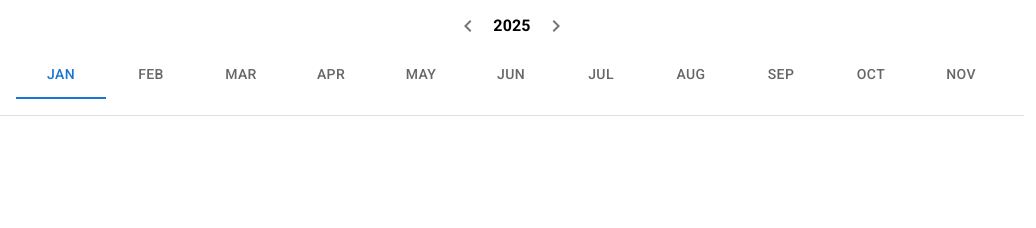
it: DashboardHeader › closing the year menu without selecting a year hides the menu
The width and height of the screenshot is (1036, 228).
Click the text "2025". click: [512, 26]
box: [493, 16, 531, 35]
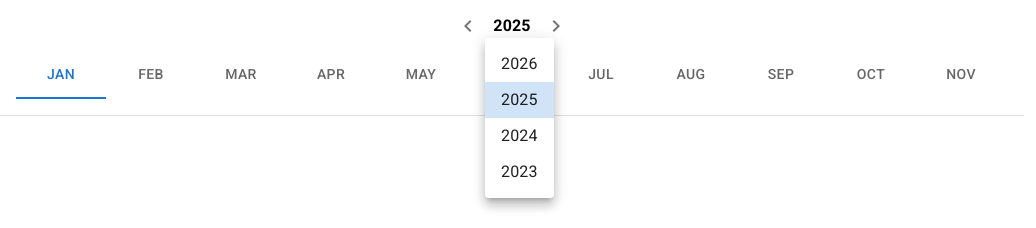
Now the menu item "2026" is shown, box [501, 54, 538, 73]
# Close by pressing Escape
Press Escape in the menu item "2025", box [485, 82, 554, 118]
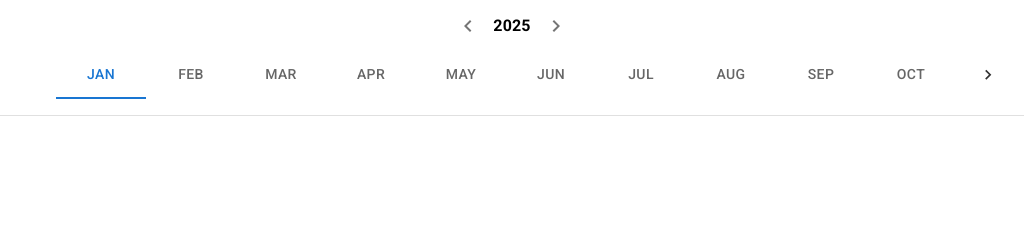
Now the menu item is gone
